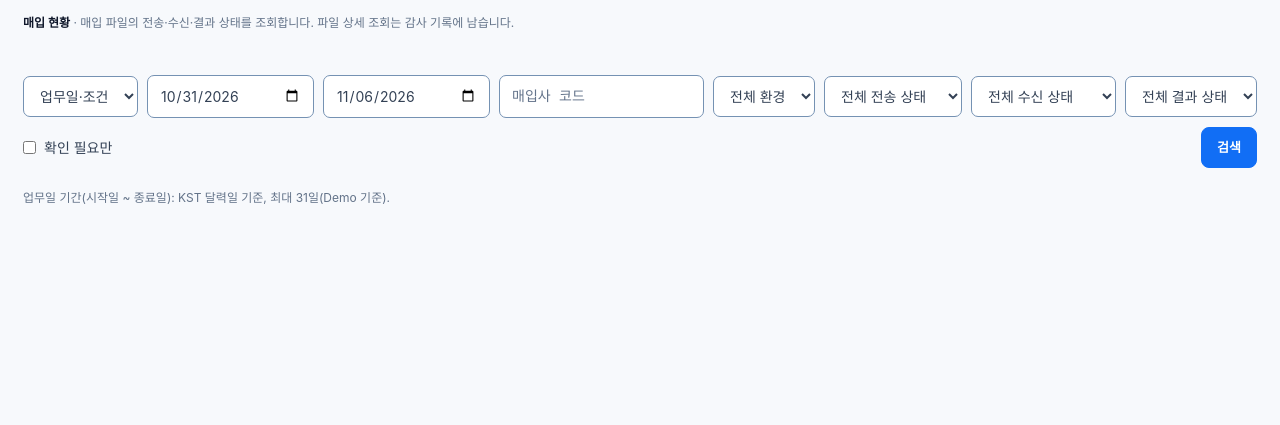
Scenario: ADMIN-UI-WORKSPACE-001: 매입·대사 › 매입 현황 in the reference list layout › an empty result is one .empty line inside the table wrapper, followed by the bottom row
What coordinates should you click on to do the following:
click the button "검색"
I would click on:
 (1229, 148)
Its box is left=1201, top=127, right=1257, bottom=168.
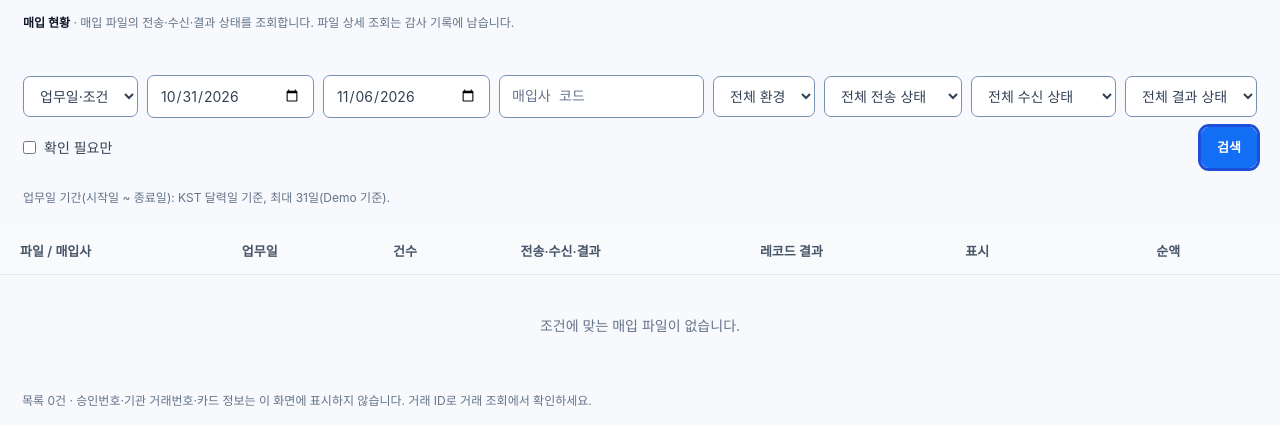
Check: the text "조건에 맞는 매입 파일이 없습니다." is shown, box left=540, top=317, right=740, bottom=334
Check: the text "목록 0건" is shown, box left=22, top=393, right=592, bottom=408
